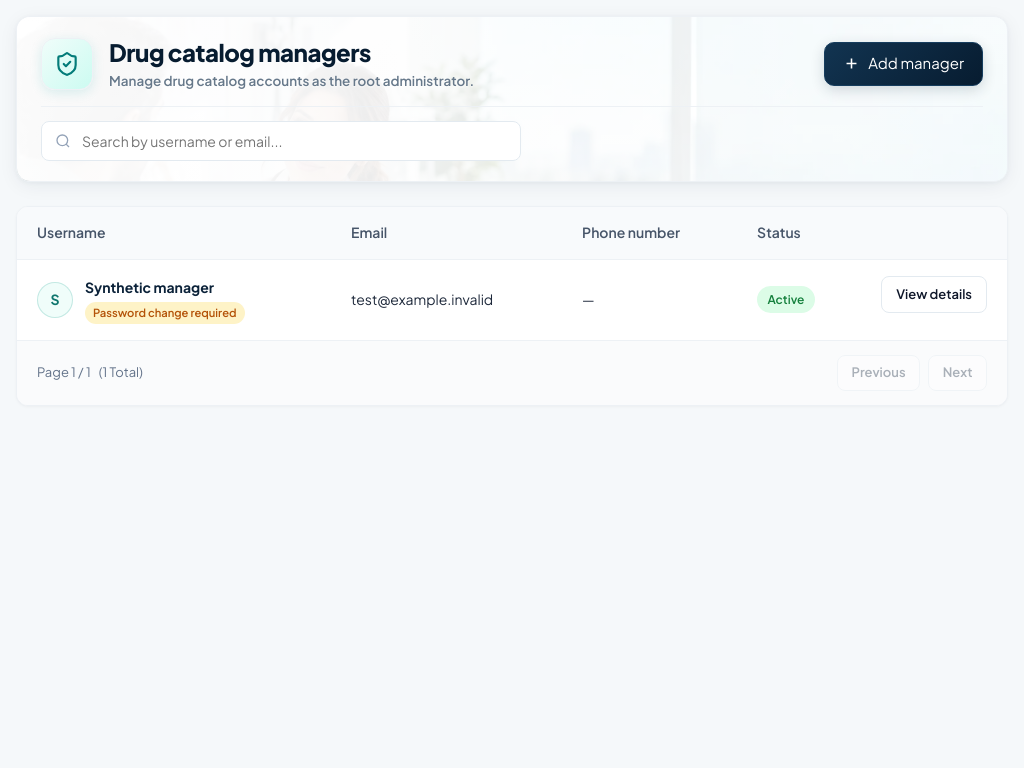
Test case: Drug catalog manager governance UI › renders dedicated accounts and opens details in the shared drawer from the table
Step 1. Click the button "View details" → click(934, 294), box [881,276,987,313]
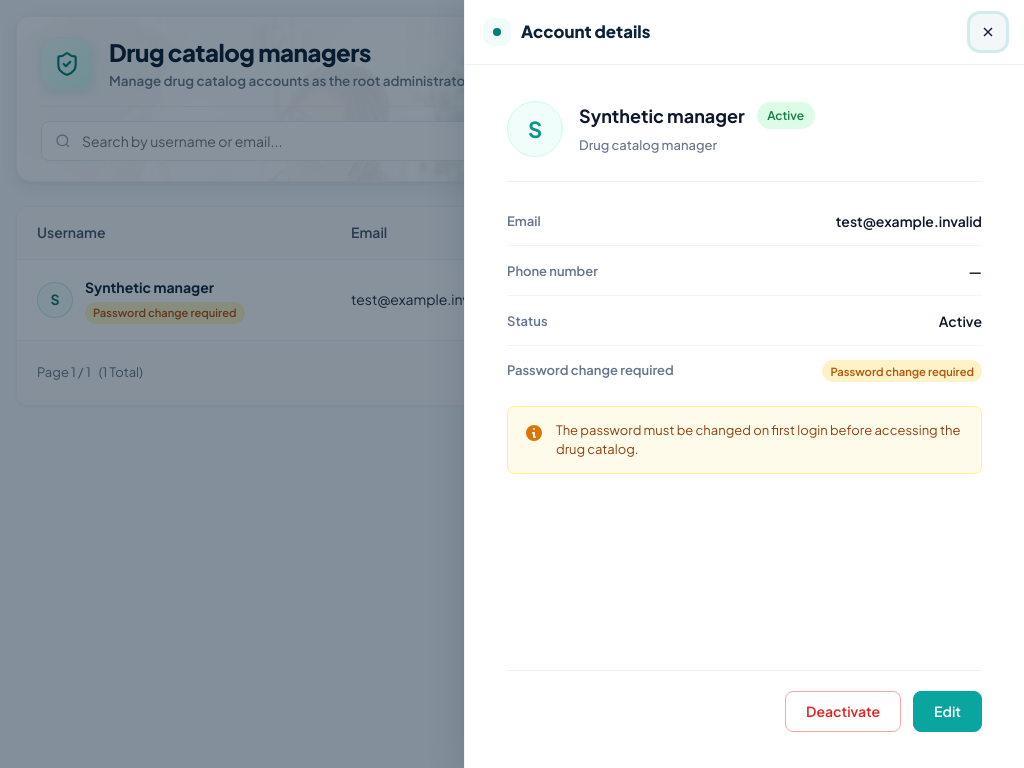
Expected: the dialog is shown, [464,0,1023,767]
Expected: the text "password must be changed" is shown, [556,422,960,457]
